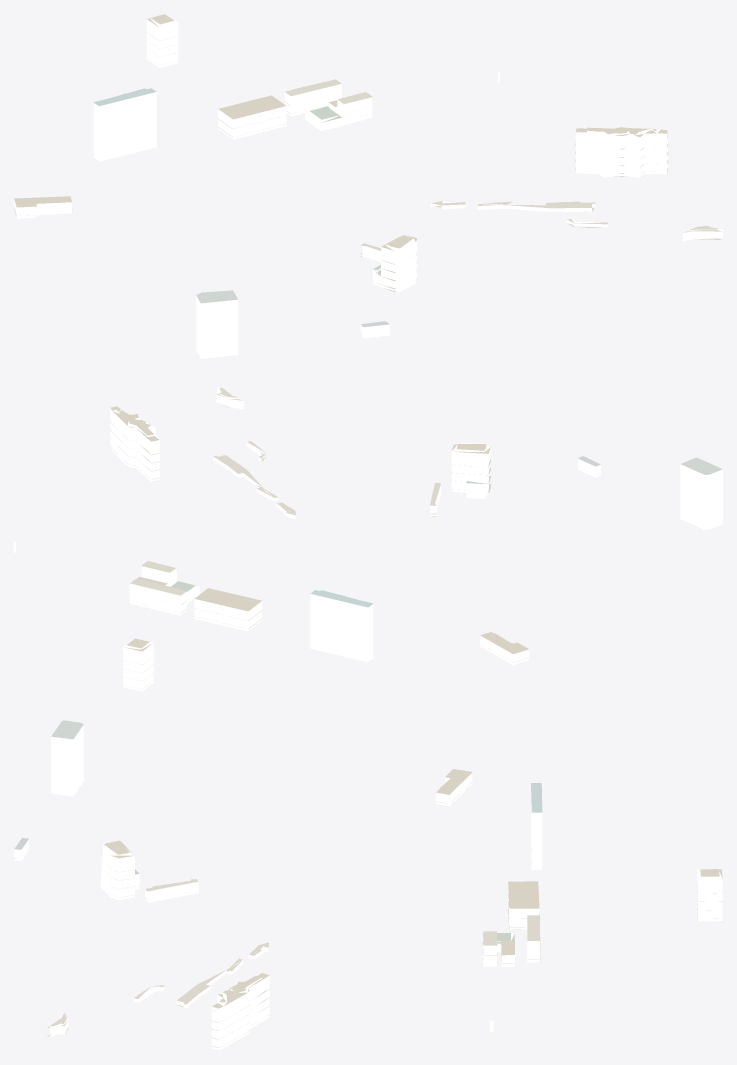
The model's file is buildings--6_3-coarse.glb.
The picture shows the model from 3 angles, top to bottom: view 1: azimuth 30°, elevation 25°; view 2: azimuth 150°, elevation 25°; view 3: azimuth 270°, elevation 25°; orthographic projection. The views are drawn at different scales.
Parts seen in each view (by area): view 1: block_-6_3_residential, block_-6_3_office, block_-6_3_roof; view 2: block_-6_3_residential, block_-6_3_office, block_-6_3_roof; view 3: block_-6_3_residential, block_-6_3_roof, block_-6_3_office.
Boxes of the visible parts, x1,y1,x2,y2 form: block_-6_3_residential: (14, 14, 722, 338); block_-6_3_office: (93, 92, 238, 358); block_-6_3_roof: (14, 14, 721, 356); block_-6_3_residential: (14, 387, 600, 691); block_-6_3_office: (310, 464, 722, 662); block_-6_3_roof: (110, 387, 722, 689); block_-6_3_residential: (14, 773, 722, 1050); block_-6_3_roof: (14, 720, 722, 1050); block_-6_3_office: (51, 725, 542, 869).
Bounding box in the file's own units: 555 × 59.2 × 608.
